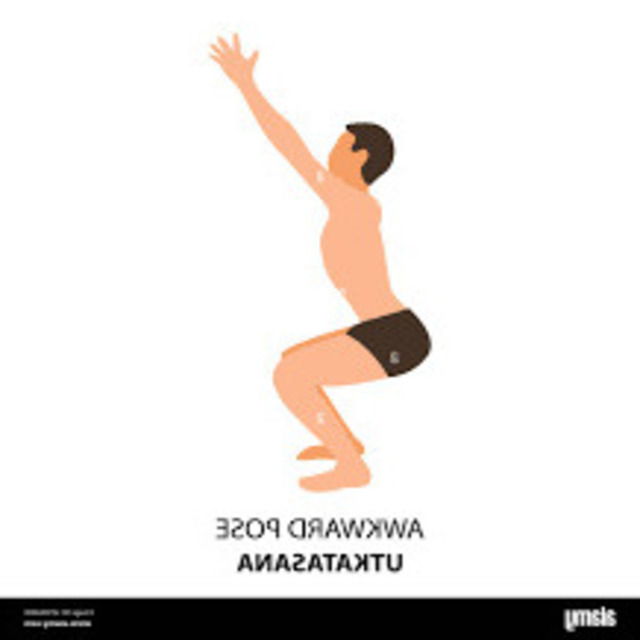Squat_Pose: (208, 34, 431, 491)
